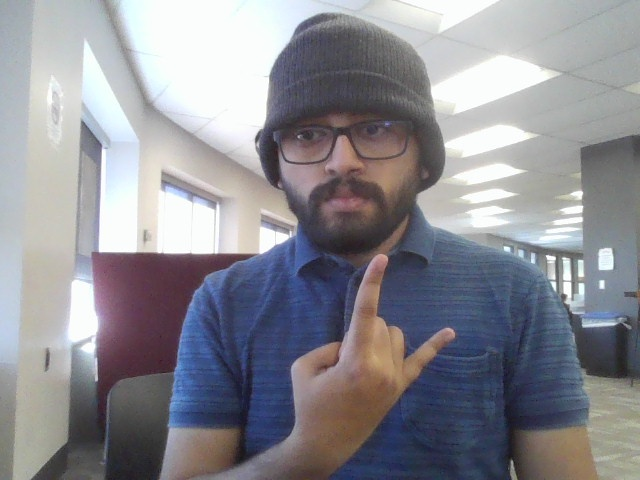help: (280, 253, 462, 445)
